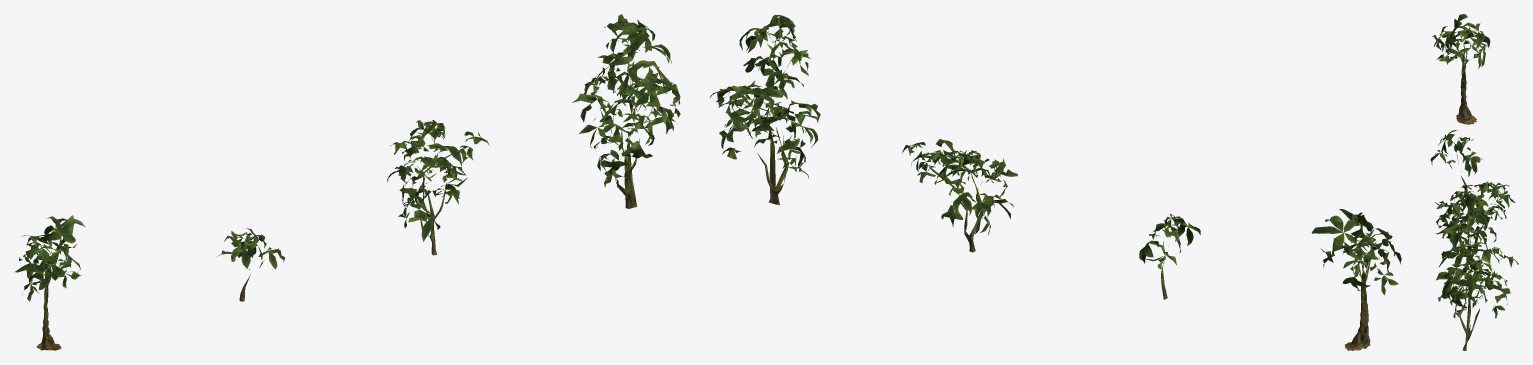
File: pachira_aquatica_01_lod1.glb
The picture shows the model from 3 angles, left to right: view 1: azimuth 30°, elevation 25°; view 2: azimuth 150°, elevation 25°; view 3: azimuth 270°, elevation 25°; orthographic projection. The views are drawn at different scales.
Parts seen in each view (by area): view 1: pachira_aquatica_01_leaves_d, pachira_aquatica_01_leaves_c, pachira_aquatica_01_leaves_a, pachira_aquatica_01_leaves_b, pachira_aquatica_01_bark_d, pachira_aquatica_01_bark_a; view 2: pachira_aquatica_01_leaves_d, pachira_aquatica_01_leaves_c, pachira_aquatica_01_leaves_a, pachira_aquatica_01_leaves_b, pachira_aquatica_01_bark_d, pachira_aquatica_01_bark_a; view 3: pachira_aquatica_01_leaves_d, pachira_aquatica_01_leaves_c, pachira_aquatica_01_leaves_a, pachira_aquatica_01_leaves_b, pachira_aquatica_01_bark_a, pachira_aquatica_01_bark_d, pachira_aquatica_01_bark_c.
Part boxes in pixels (x1,y1,x2,y2): pachira_aquatica_01_leaves_d: (572, 14, 680, 187); pachira_aquatica_01_leaves_c: (387, 120, 489, 241); pachira_aquatica_01_leaves_a: (15, 215, 85, 301); pachira_aquatica_01_leaves_b: (217, 228, 285, 270); pachira_aquatica_01_bark_d: (610, 43, 667, 208); pachira_aquatica_01_bark_a: (36, 263, 61, 350); pachira_aquatica_01_leaves_d: (709, 15, 820, 178); pachira_aquatica_01_leaves_c: (902, 139, 1017, 234); pachira_aquatica_01_leaves_a: (1311, 209, 1401, 295); pachira_aquatica_01_leaves_b: (1139, 214, 1200, 269); pachira_aquatica_01_bark_d: (732, 40, 791, 205); pachira_aquatica_01_bark_a: (1345, 261, 1370, 350); pachira_aquatica_01_leaves_d: (1436, 191, 1518, 318); pachira_aquatica_01_leaves_c: (1435, 181, 1515, 243); pachira_aquatica_01_leaves_a: (1432, 14, 1490, 68); pachira_aquatica_01_leaves_b: (1430, 130, 1482, 176); pachira_aquatica_01_bark_a: (1456, 50, 1476, 124); pachira_aquatica_01_bark_d: (1455, 229, 1491, 350); pachira_aquatica_01_bark_c: (1454, 198, 1494, 271).
Bounding box in the file's own units: 6.84 × 1.9 × 0.9823.
Materials: 2 (2 with a texture image).
